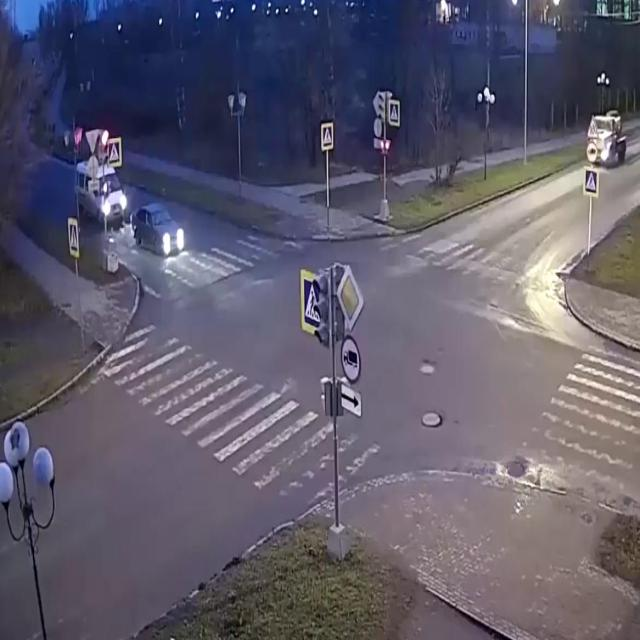non_accident: (71, 155, 191, 265)
